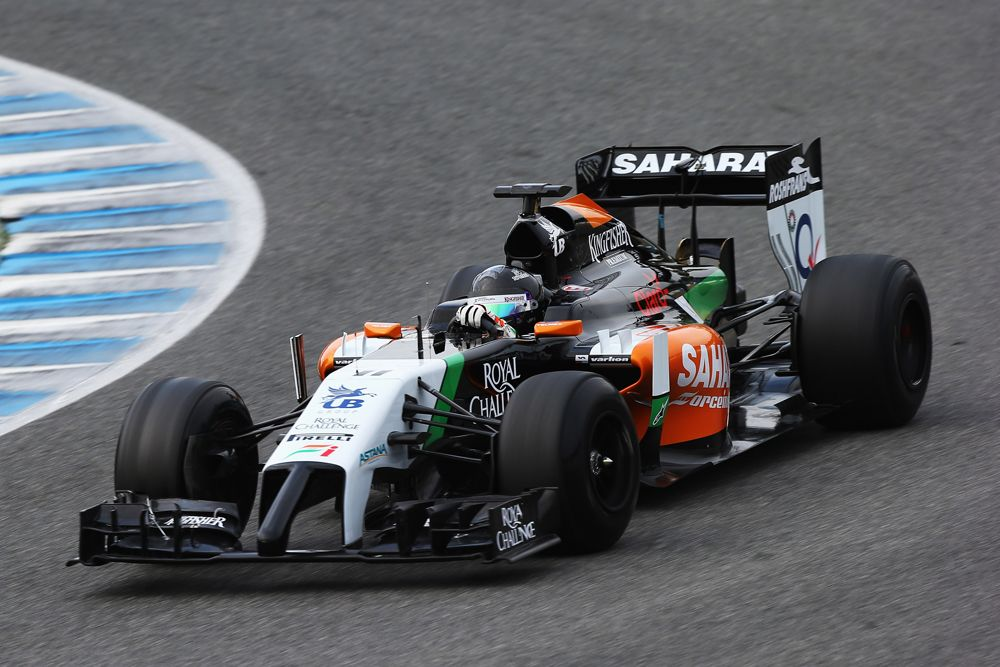f1_car: (59, 130, 945, 587)
helmet: (462, 261, 548, 338)
